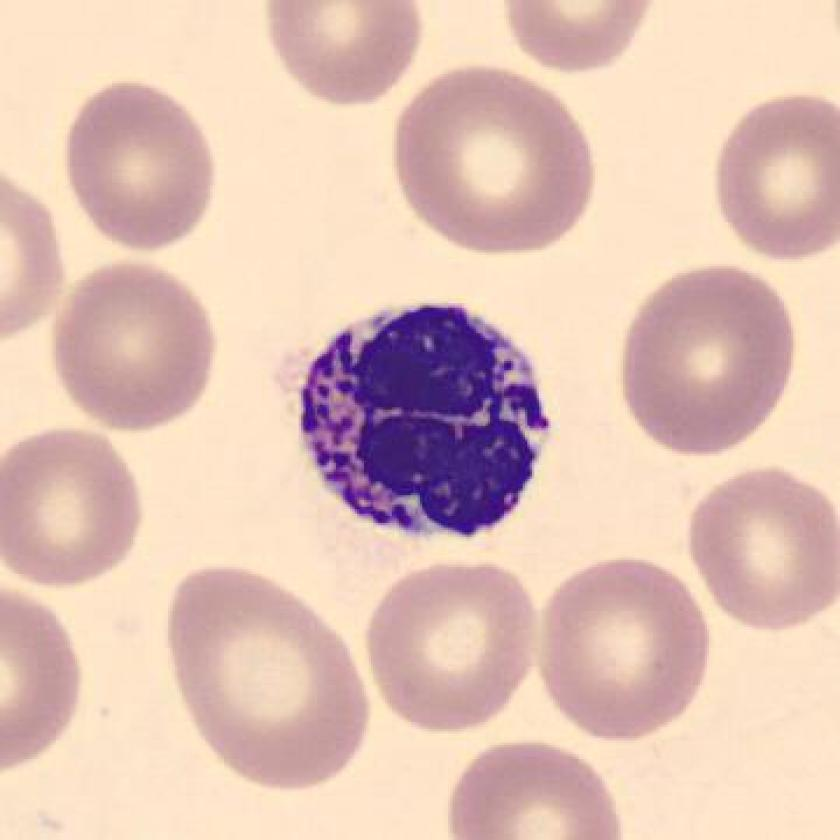basophil: (276, 290, 552, 552)
